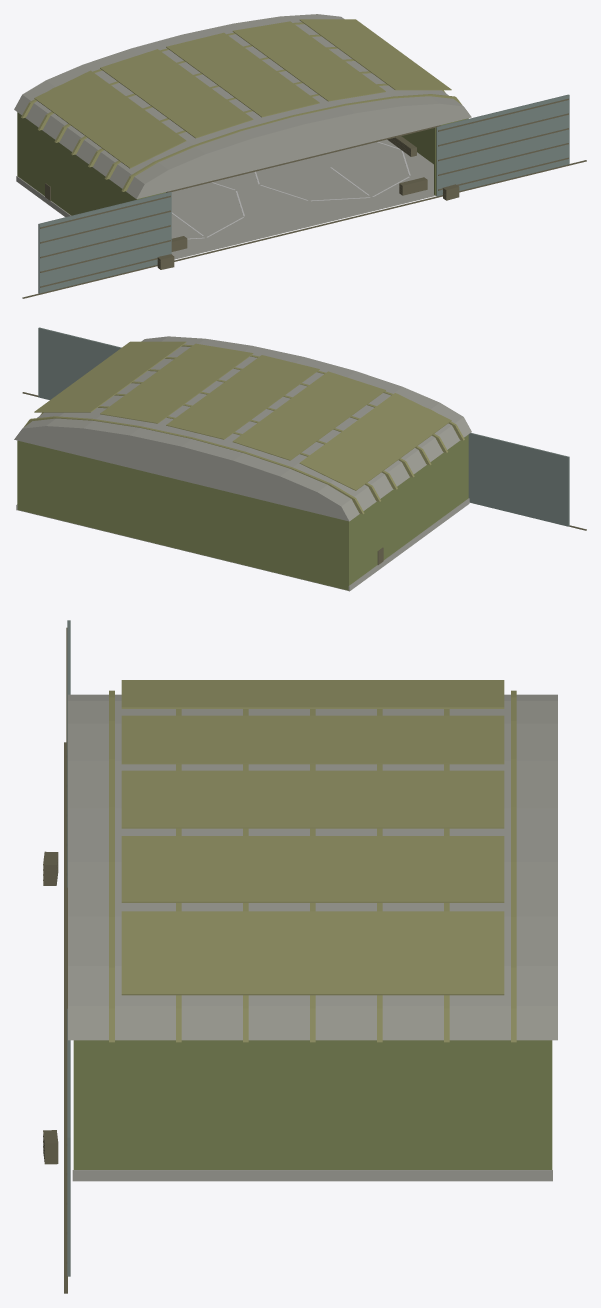
File: SM_HangarAbierto_v4_Fortificado_LOD0.fbx
The picture shows the model from 3 angles, top to bottom: view 1: azimuth 30°, elevation 25°; view 2: azimuth 150°, elevation 25°; view 3: azimuth 270°, elevation 25°; orthographic projection. The views are drawn at different scales.
Visible parts, largest first — view 1: Cubierta, SM_hangar_abierto_v4_LOD0, Porton_O, Porton_E; view 2: Cubierta, SM_hangar_abierto_v4_LOD0, Porton_O, Porton_E; view 3: Cubierta, SM_hangar_abierto_v4_LOD0, Porton_E.
Boxes of the visible parts, x1,y1,x2,y2 form: Cubierta: (14, 14, 471, 199); SM_hangar_abierto_v4_LOD0: (16, 112, 586, 298); Porton_O: (38, 192, 171, 293); Porton_E: (436, 94, 569, 196); Cubierta: (14, 336, 471, 521); SM_hangar_abierto_v4_LOD0: (16, 392, 586, 591); Porton_O: (468, 433, 569, 526); Porton_E: (38, 327, 121, 399); Cubierta: (68, 680, 557, 1042); SM_hangar_abierto_v4_LOD0: (43, 742, 552, 1293); Porton_E: (66, 1008, 70, 1276).
Bounding box in the file's own units: 68 × 12.67 × 26.9.
